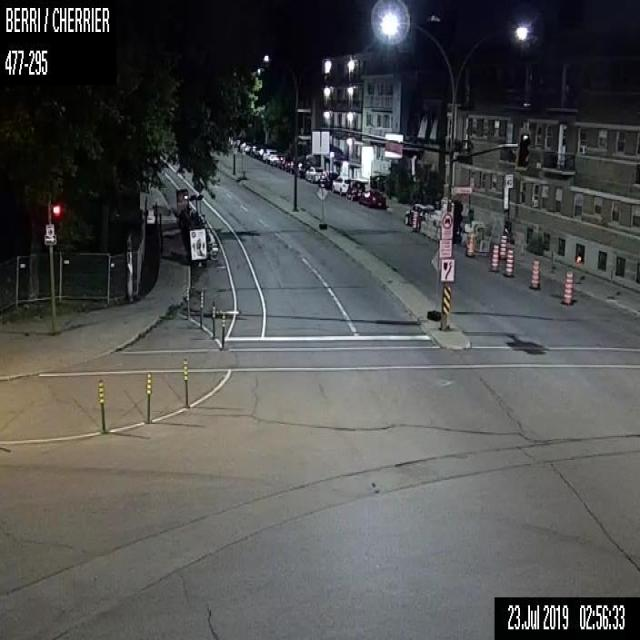construction: (426, 248, 441, 319), (314, 184, 327, 228), (96, 382, 105, 430), (144, 372, 151, 423), (563, 271, 572, 303), (182, 358, 188, 406), (490, 243, 498, 270), (505, 248, 513, 275), (530, 260, 538, 286), (466, 230, 473, 257), (499, 233, 506, 259), (574, 255, 580, 283), (220, 312, 224, 349), (211, 304, 215, 337), (185, 284, 189, 317), (411, 210, 417, 230), (199, 289, 202, 328)
vehicle: (404, 202, 434, 227), (358, 189, 386, 207), (331, 175, 351, 194), (316, 170, 338, 187), (346, 180, 364, 200), (304, 165, 323, 182), (296, 162, 310, 177), (262, 148, 276, 162)
